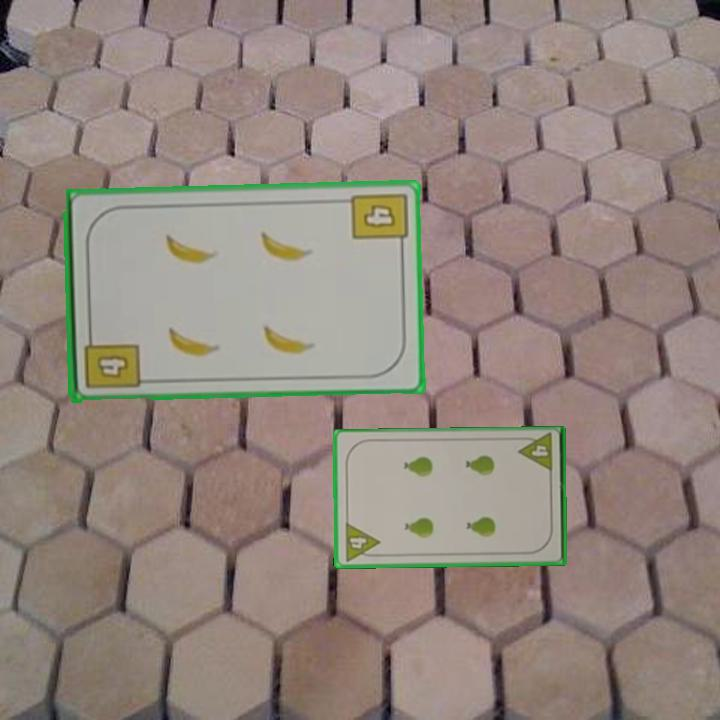4b: (348, 189, 410, 253), (80, 328, 142, 391)
4p: (341, 519, 382, 564), (516, 431, 555, 475)
